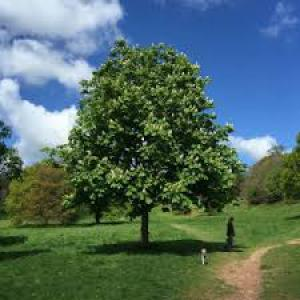Tree: (58, 39, 241, 245)
